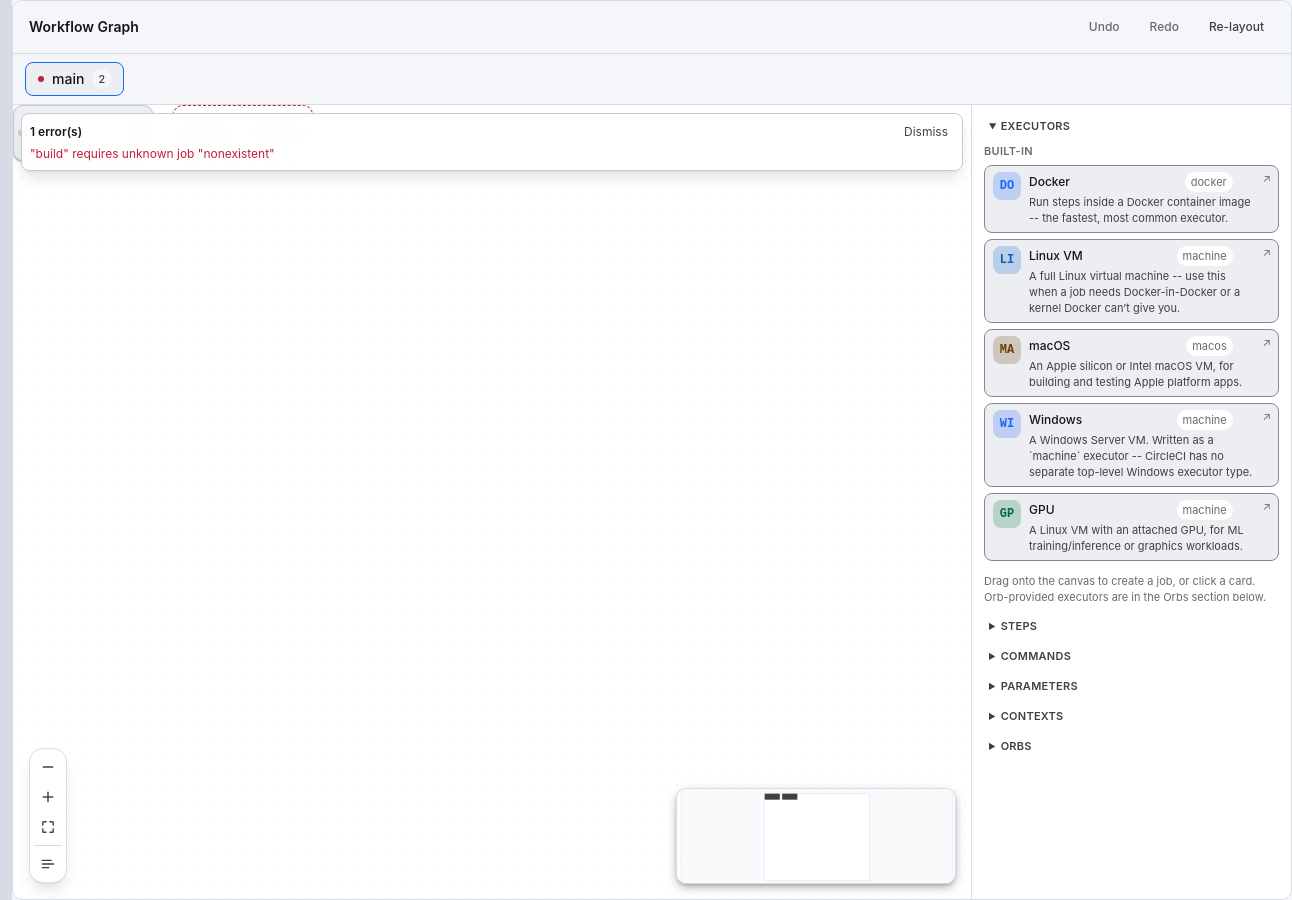
Test: DagPane › dismisses the problems banner and keeps it dismissed until the problems change
Expected: the list item "\"build\" requires unknown job \"nonexistent\"" is shown, [30,146,275,161]
Click the button with aria-label "dismiss graph problems" at [926, 132], box [898,122,954,142]
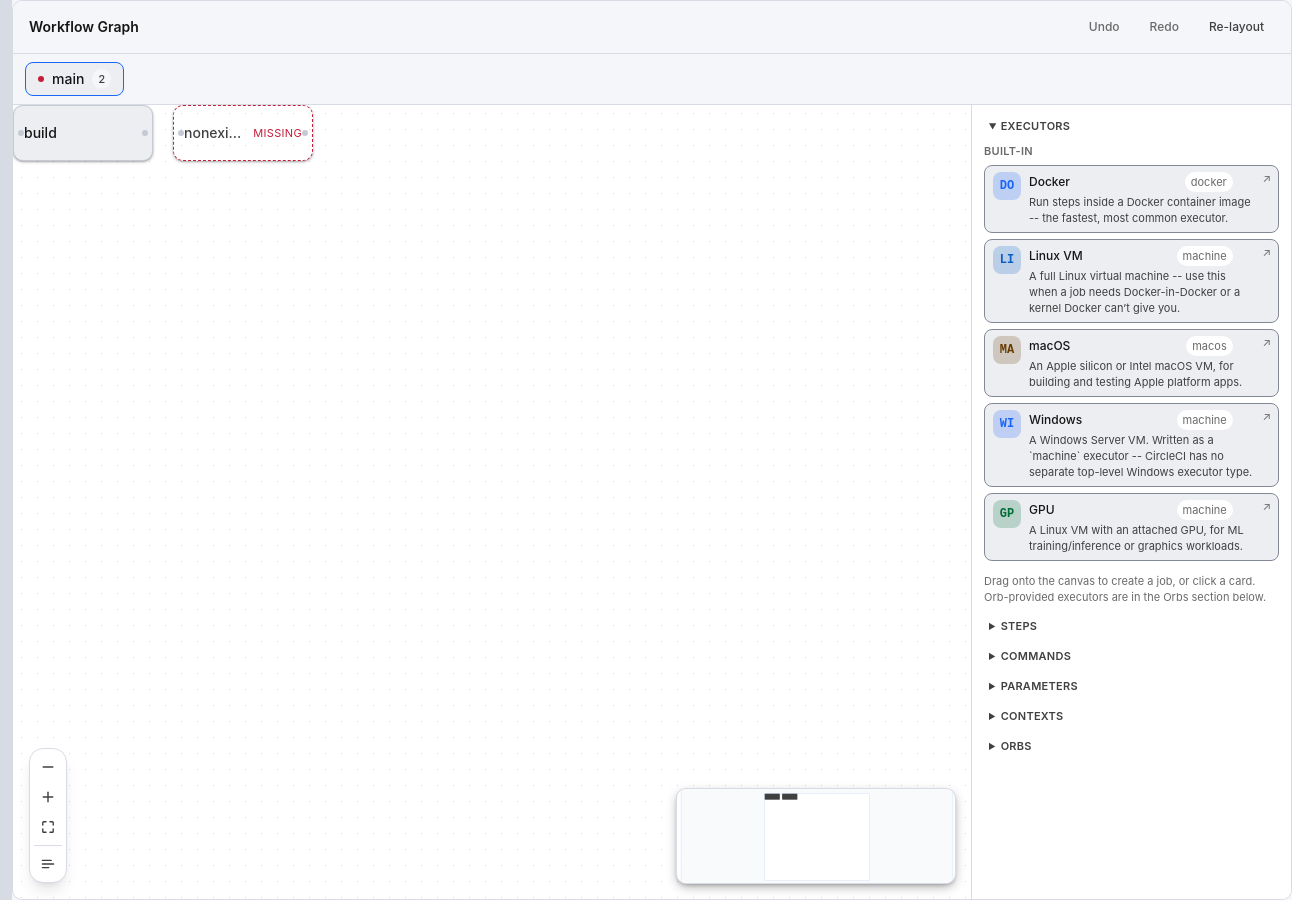
Expected: the list item "unknown job \"nonexistent\"" is gone
